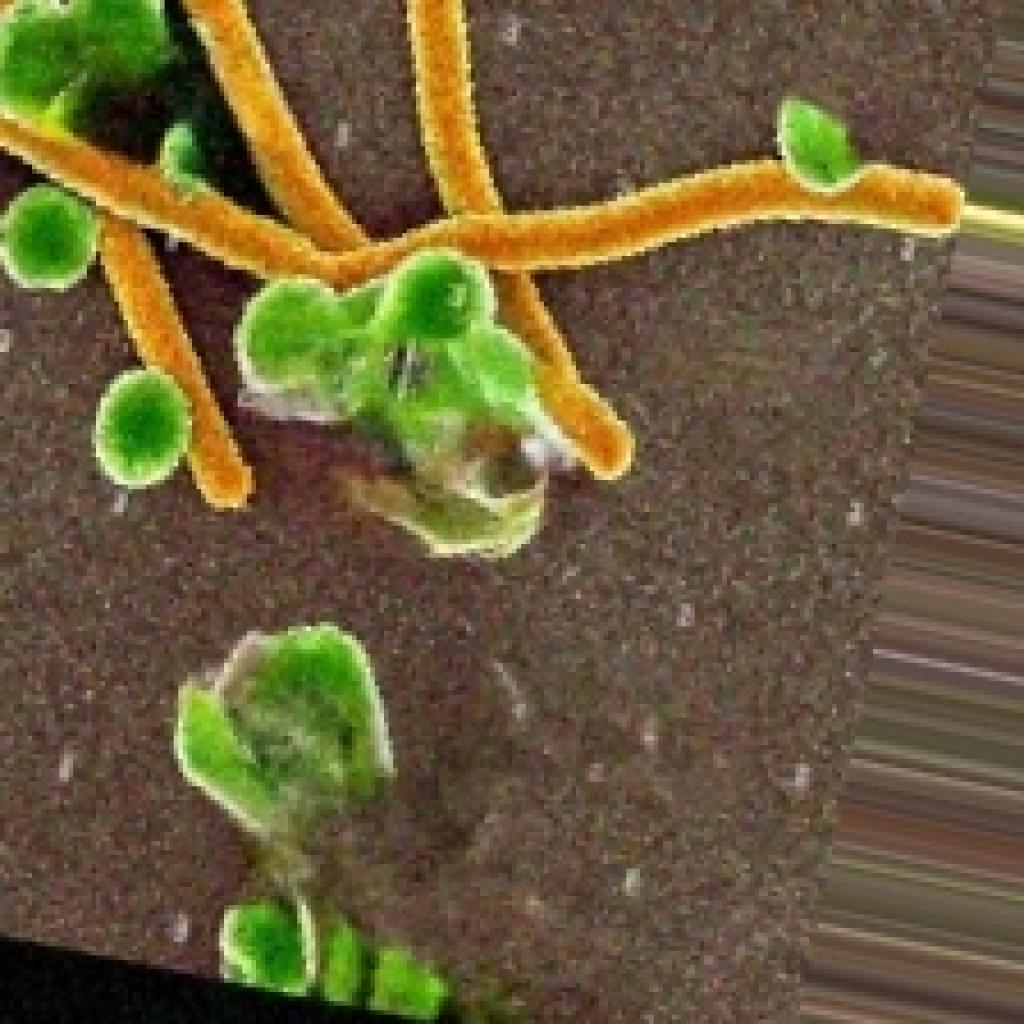Rodbacteria: (0, 0, 1019, 557)
